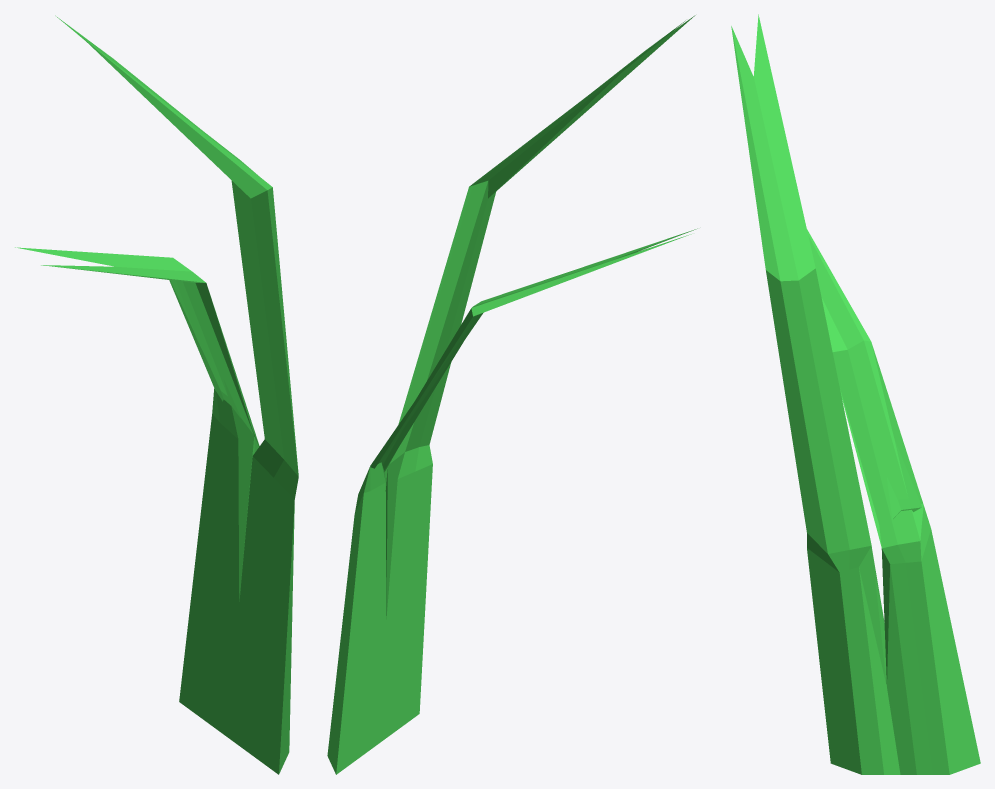
Rendered from Grass3.fbx.
3 views of the same model, side by side, from view 1: azimuth 30°, elevation 25°; view 2: azimuth 150°, elevation 25°; view 3: azimuth 270°, elevation 25° (orthographic). The views are drawn at different scales.
Parts seen in each view (by area): view 1: Cube.003; view 2: Cube.003; view 3: Cube.003.
Boxes of the visible parts, bbox=[...] form: Cube.003: bbox=[15, 15, 298, 774]; Cube.003: bbox=[327, 15, 697, 774]; Cube.003: bbox=[731, 14, 980, 774].
Bounding box in the file's own units: 280 × 704 × 245.
